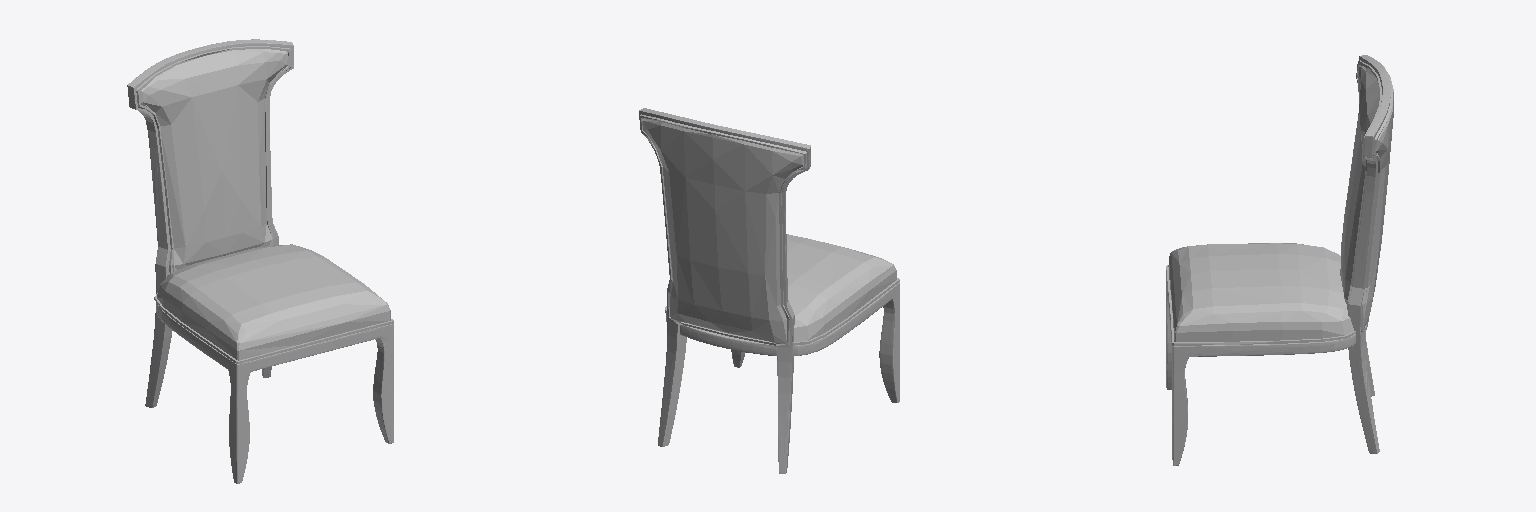
File: raw_model.obj
3 views of the same model, side by side, from view 1: azimuth 30°, elevation 25°; view 2: azimuth 150°, elevation 25°; view 3: azimuth 270°, elevation 25° (orthographic).
Visible parts, largest first — view 1: solid_001, solid_002; view 2: solid_001, solid_002; view 3: solid_001, solid_002.
Boxes of the visible parts, <box> form: solid_001: <box>136,46,393,363</box>; solid_002: <box>127,39,393,483</box>; solid_001: <box>639,114,899,346</box>; solid_002: <box>639,108,899,473</box>; solid_001: <box>1166,60,1393,345</box>; solid_002: <box>1166,55,1390,465</box>.
Size of the model in its own units: 0.4613 by 0.8733 by 0.5347.